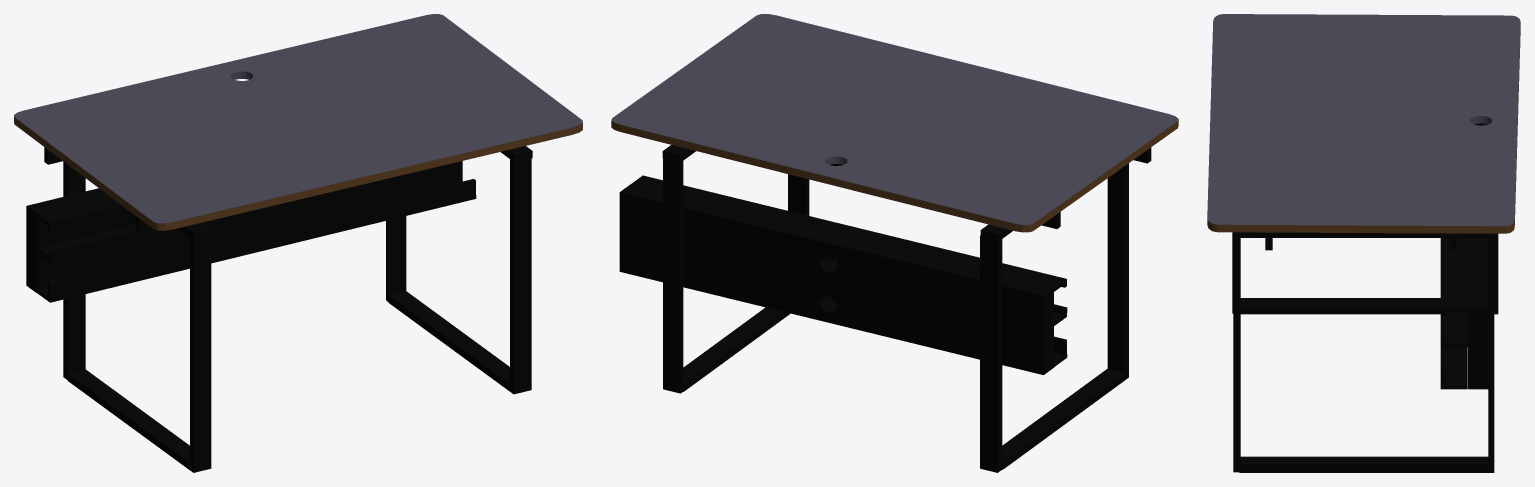
The model's file is MesaLab_FrancoM_47131015.fbx.
3 views of the same model, side by side, from view 1: azimuth 30°, elevation 25°; view 2: azimuth 150°, elevation 25°; view 3: azimuth 270°, elevation 25° (orthographic).
Parts seen in each view (by area): view 1: Mesa.001, Patas; view 2: Mesa.001, Patas; view 3: Mesa.001, Patas.
Boxes of the visible parts, bbox=[...] form: Mesa.001: bbox=[14, 14, 582, 230]; Patas: bbox=[26, 146, 532, 472]; Mesa.001: bbox=[611, 14, 1178, 232]; Patas: bbox=[619, 145, 1151, 472]; Mesa.001: bbox=[1207, 14, 1520, 233]; Patas: bbox=[1232, 123, 1498, 472].
Bounding box in the file's own units: 242 × 143 × 151.
Materials: 2 (2 with a texture image).
